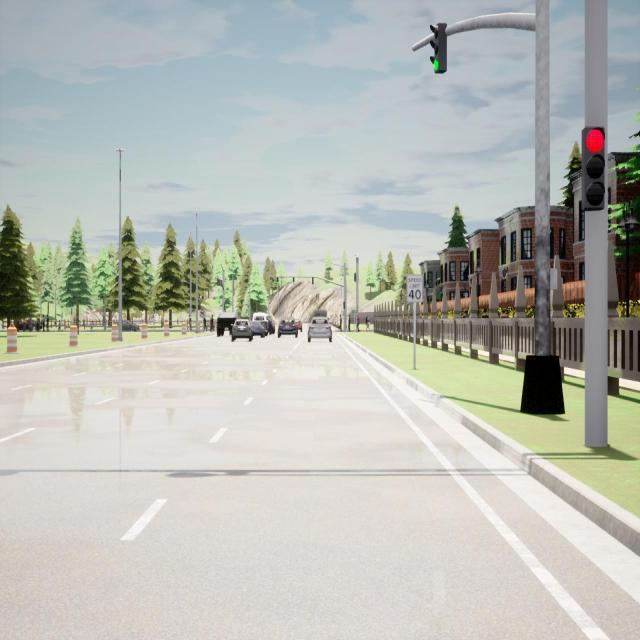Pedestrian: (365, 313, 371, 333), (45, 314, 51, 333), (187, 314, 193, 332), (55, 319, 63, 332), (41, 314, 46, 334), (209, 314, 214, 332), (28, 318, 34, 332), (338, 313, 342, 332), (36, 314, 40, 332), (203, 318, 208, 332), (347, 314, 351, 331), (356, 315, 360, 332), (90, 319, 94, 331), (23, 319, 26, 332)
Traffic_Signs: (406, 274, 423, 301), (200, 310, 206, 317)
Vehicle: (307, 318, 333, 342), (217, 313, 240, 337), (253, 312, 276, 335), (231, 319, 253, 342), (277, 318, 298, 337), (251, 320, 265, 338), (121, 320, 138, 331), (312, 308, 328, 318), (295, 320, 303, 332)
traffic_light: (582, 127, 605, 210), (430, 23, 448, 73), (354, 272, 356, 282), (293, 277, 295, 285), (343, 302, 345, 309), (312, 277, 314, 284), (276, 277, 278, 284), (219, 279, 220, 286), (217, 279, 218, 285), (221, 280, 222, 286)
